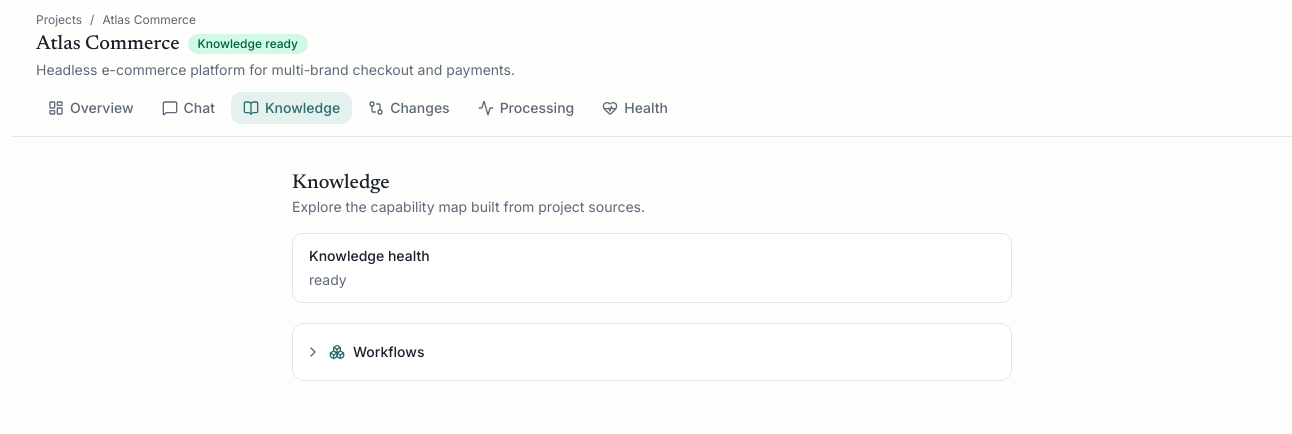
Scenario: KnowledgeExplorer › asks about a workflow without using the q query param
Expected: the heading "Knowledge" is shown, [292,173,390,193]
Click the button named "Workflows" at (313, 352), box [305,344,321,360]
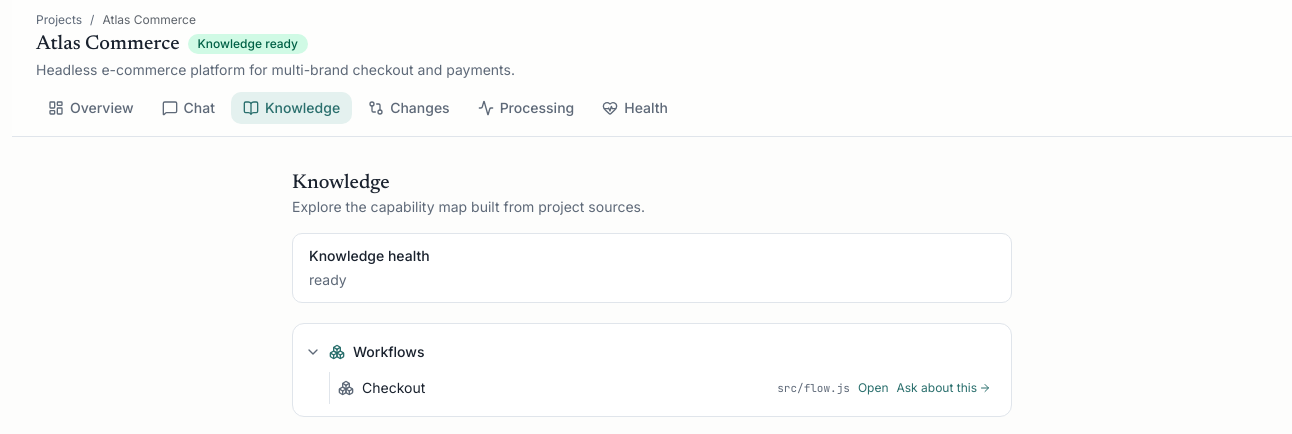
Now the text "Checkout" is shown, box [362,379,425,396]
Click the button "Ask about this" at (944, 388), box [896,380,991,396]
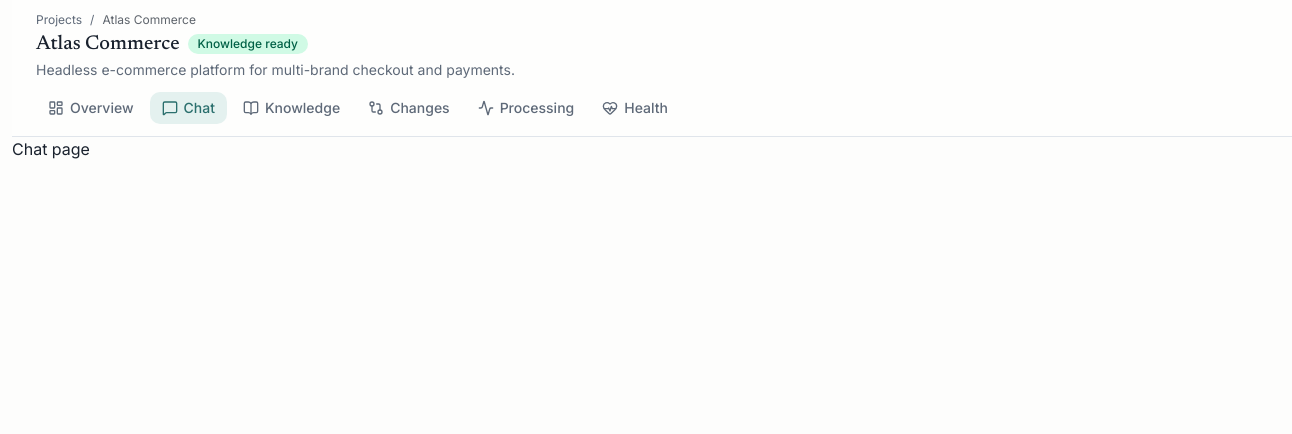
Now the text "Chat page" is shown, box [12,139,90,159]
